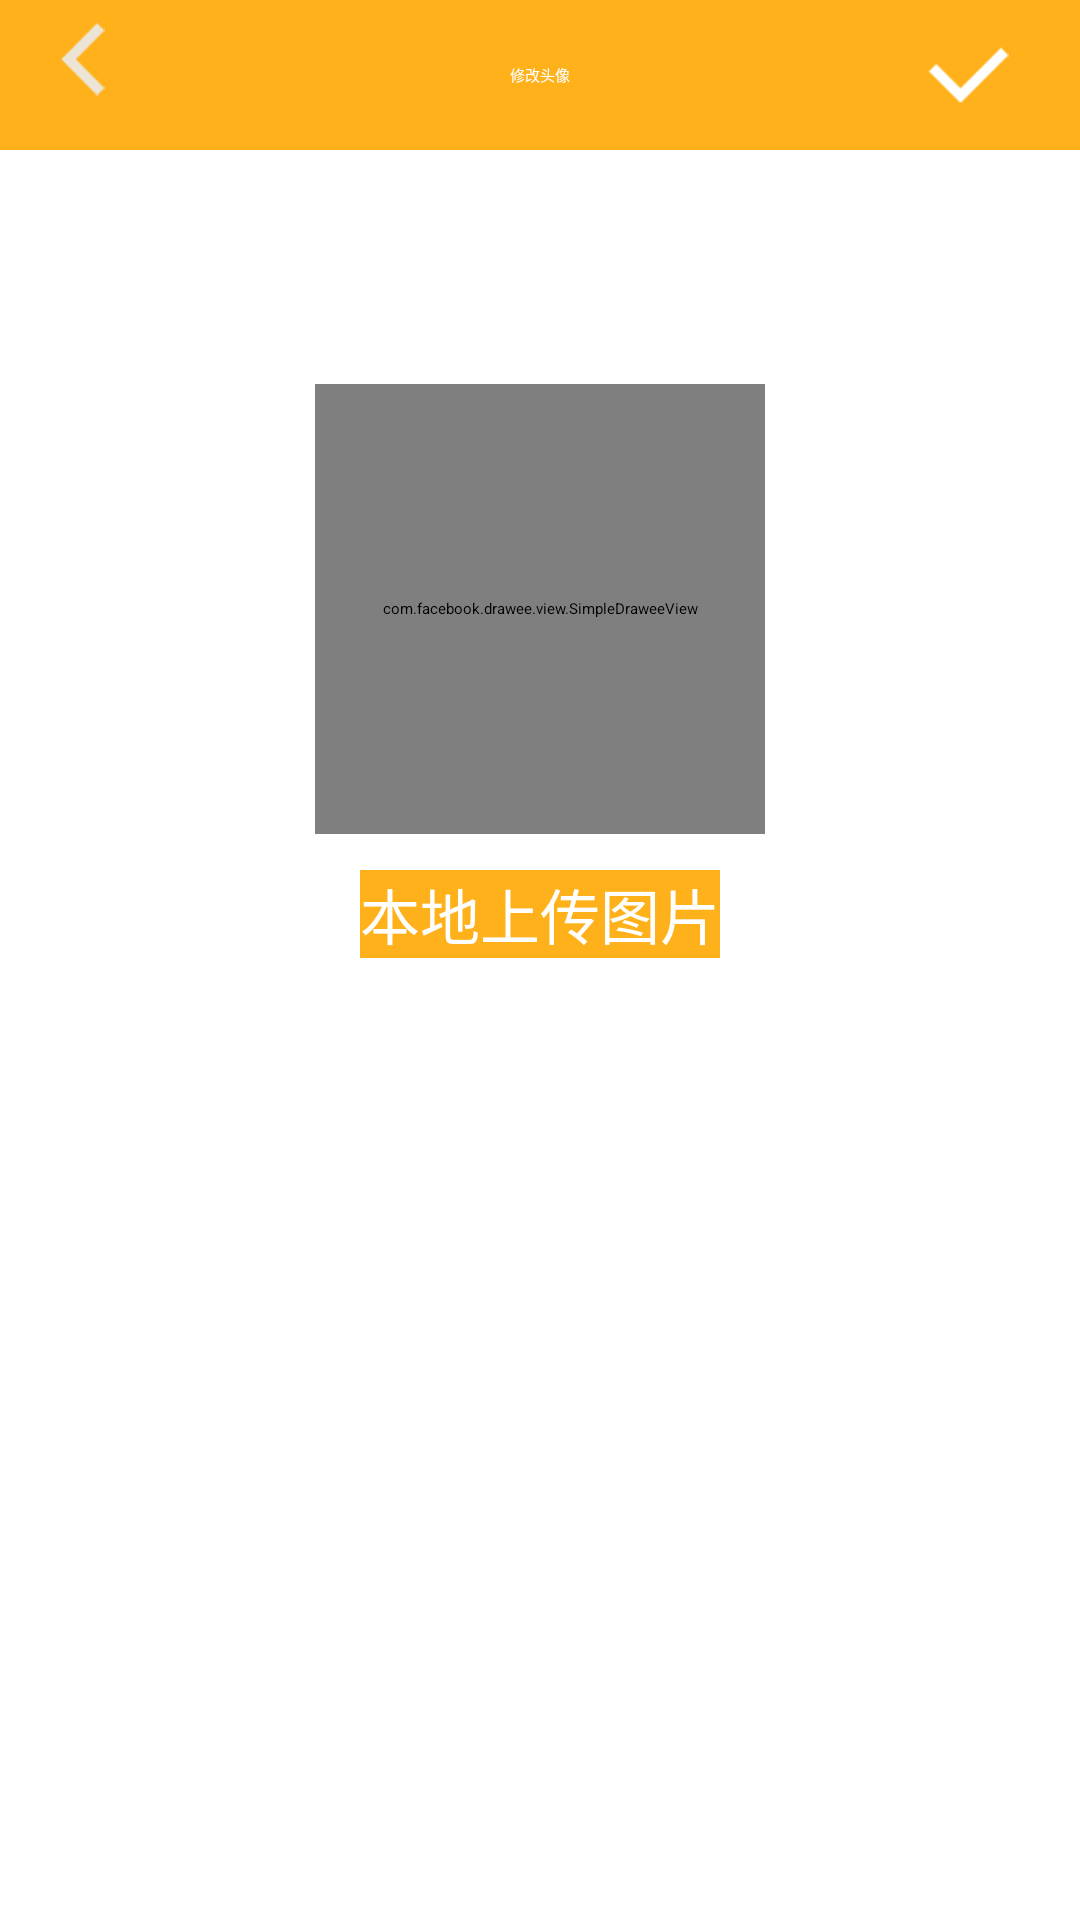

Icon bounding boxes for this 1080w x 1920h phone screenshot, format [x1,y1,x2,y2]:
back: [61,23,105,96]
submit: [929,47,1009,103]
